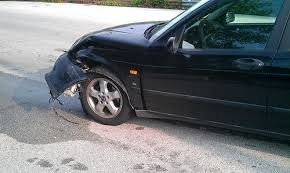Dent: (46, 45, 88, 107)
